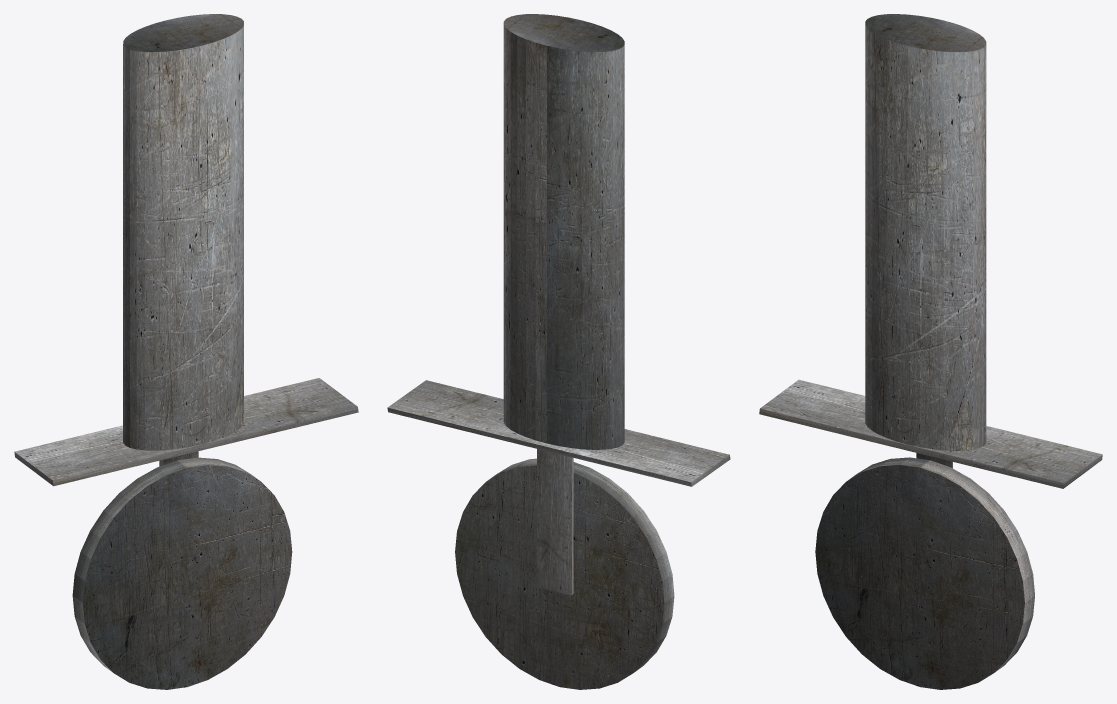
The model's file is pizzacutter2.glb.
3 views of the same model, side by side, from view 1: azimuth 30°, elevation 25°; view 2: azimuth 150°, elevation 25°; view 3: azimuth 330°, elevation 25° (orthographic).
Visible parts, largest first — view 1: Cube, Cylinder, Cube.002; view 2: Cube, Cylinder, Cube.002, Cube.001; view 3: Cube, Cylinder, Cube.002.
Part boxes in pixels (x1,y1,x2,y2): Cube: [123, 14, 243, 450]; Cylinder: [72, 457, 292, 689]; Cube.002: [14, 378, 358, 486]; Cube: [503, 14, 624, 449]; Cylinder: [455, 458, 674, 689]; Cube.002: [387, 380, 730, 486]; Cube.001: [537, 449, 573, 595]; Cube: [865, 14, 986, 450]; Cylinder: [815, 457, 1034, 689]; Cube.002: [759, 379, 1102, 488].
Bounding box in the file's own units: 1.87 × 3.82 × 0.4248.
Materials: 4 (4 with a texture image).
